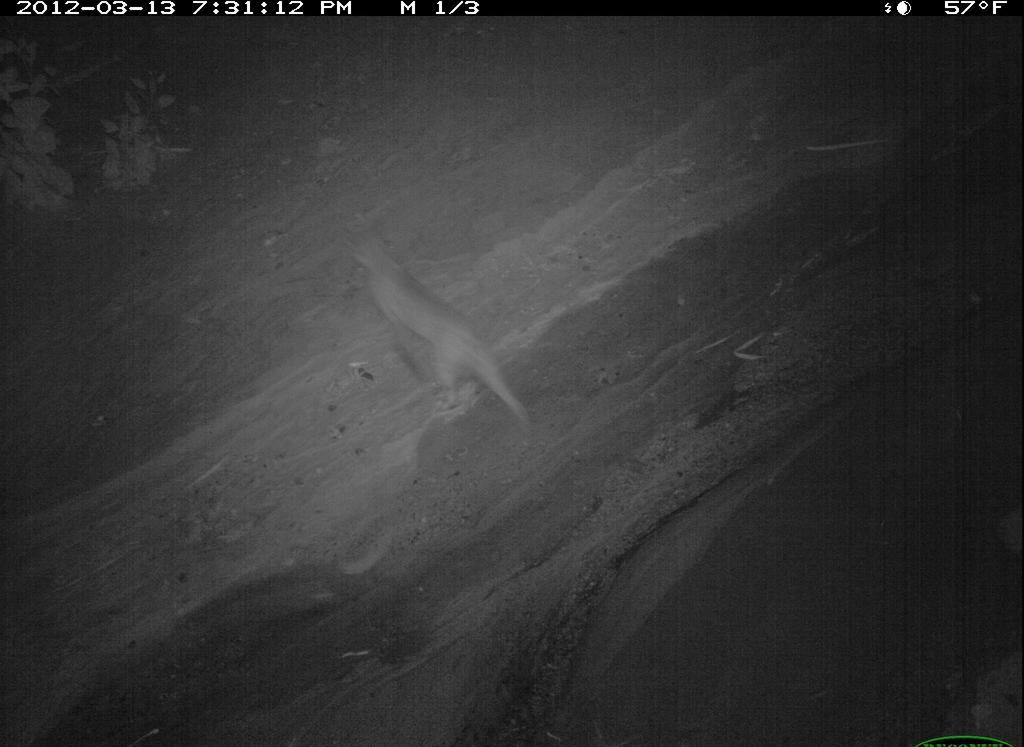bobcat: (676, 422, 1024, 747)
